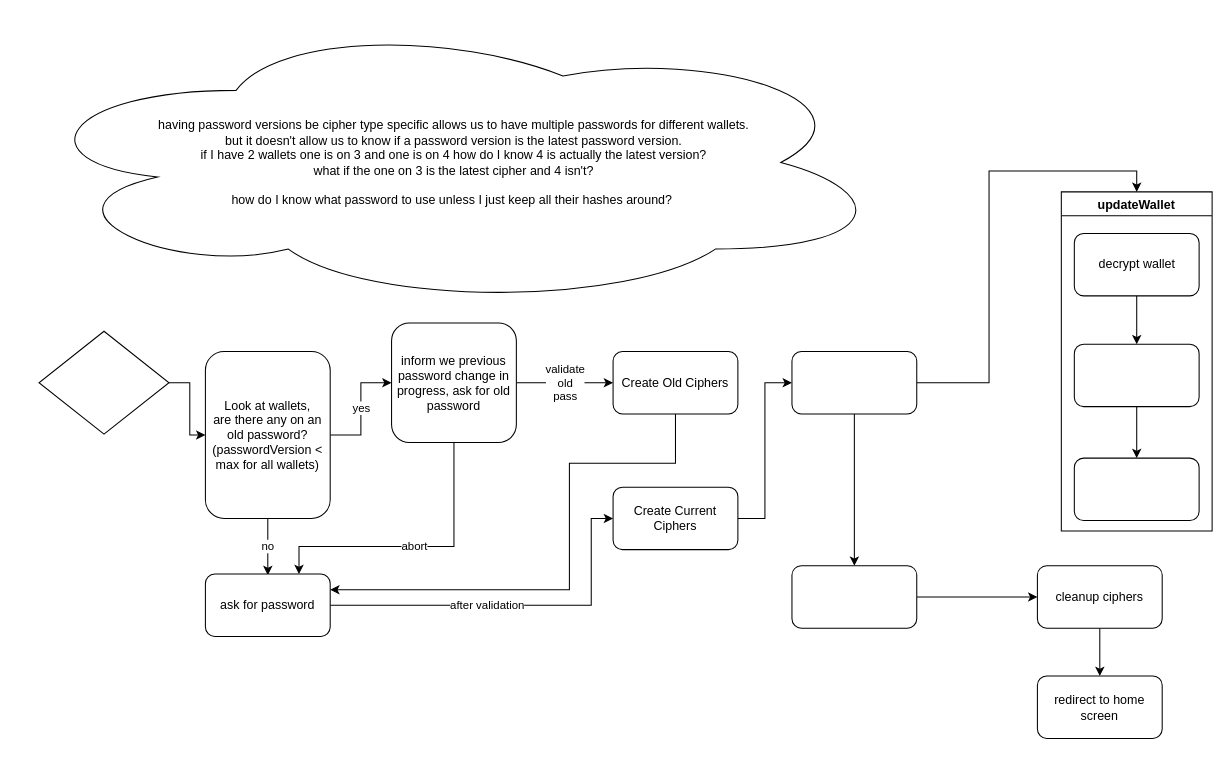
This 1230x757 diagram has some shape labels left out. The centre of each missing label's shape, as x and y in pixels:
"app start" belongs at (x=103, y=382).
"encrypt wallet with latest cipher" belongs at (x=1136, y=375).
"for each wallet with an old cipher (for whatever reason)..." belongs at (x=854, y=382).
"save wallet record with latest CipherUpdate" belongs at (x=1136, y=489).
"verify all wallets on latest cipher and password" belongs at (x=854, y=596).
